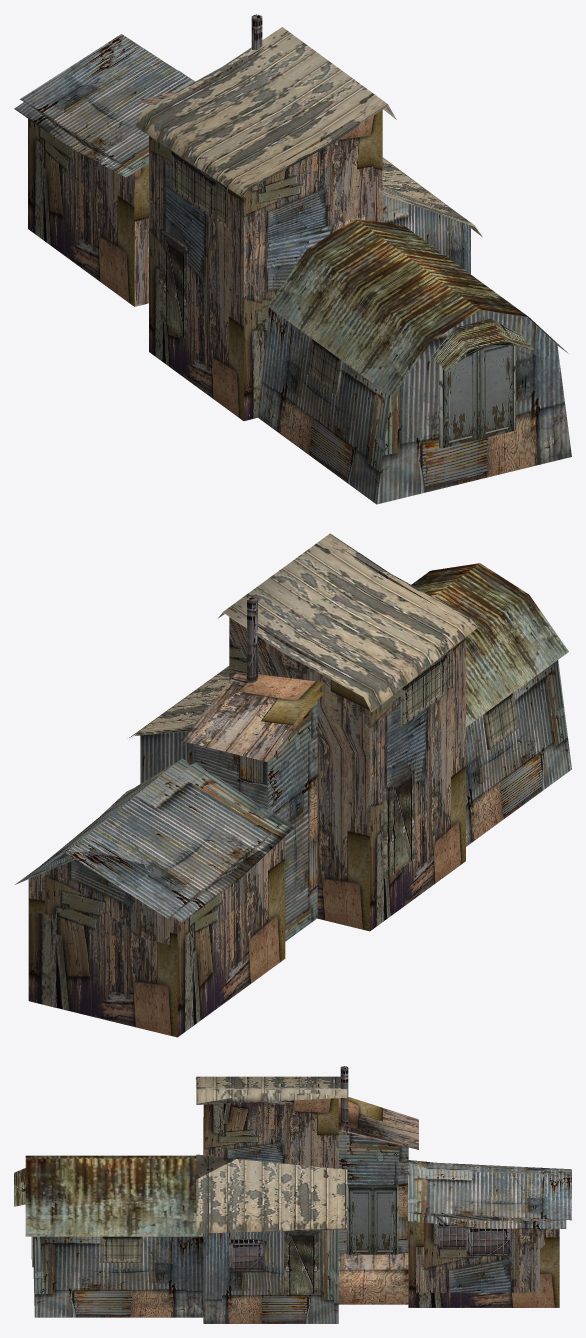
The model's file is MogSlm04.glb.
The picture shows the model from 3 angles, top to bottom: view 1: azimuth 30°, elevation 25°; view 2: azimuth 150°, elevation 25°; view 3: azimuth 270°, elevation 25°; orthographic projection. The views are drawn at different scales.
Parts seen in each view (by area): view 1: 01 Mesh0.002, 01 Mesh0.001, 01 Mesh0, 01 Mesh0.003; view 2: 01 Mesh0.002, 01 Mesh0.003, 01 Mesh0, 01 Mesh0.001; view 3: 01 Mesh0.003, 01 Mesh0.001, 01 Mesh0, 01 Mesh0.002.
Boxes of the visible parts, <box> form: 01 Mesh0.002: <box>28,15,565,504</box>; 01 Mesh0.001: <box>14,14,571,504</box>; 01 Mesh0: <box>30,18,567,447</box>; 01 Mesh0.003: <box>20,14,571,455</box>; 01 Mesh0.002: <box>26,533,571,1037</box>; 01 Mesh0.003: <box>21,533,488,1028</box>; 01 Mesh0: <box>23,570,519,1037</box>; 01 Mesh0.001: <box>15,563,570,938</box>; 01 Mesh0.003: <box>14,1066,571,1323</box>; 01 Mesh0.001: <box>20,1066,566,1323</box>; 01 Mesh0: <box>25,1068,565,1323</box>; 01 Mesh0.002: <box>14,1066,565,1294</box>.
Size of the model in its own units: 5.85 by 7.05 by 16.49.
Materials: 4 (1 with a texture image).
